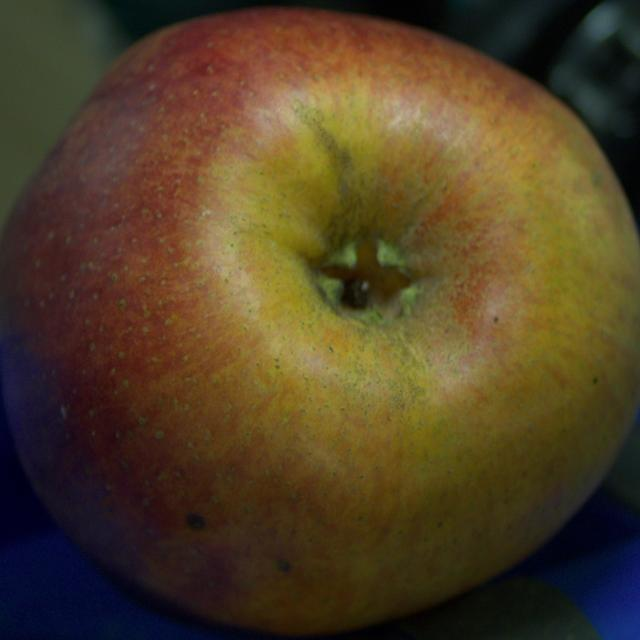apple: (1, 8, 639, 634)
pest: (186, 513, 205, 530), (278, 561, 291, 572)
